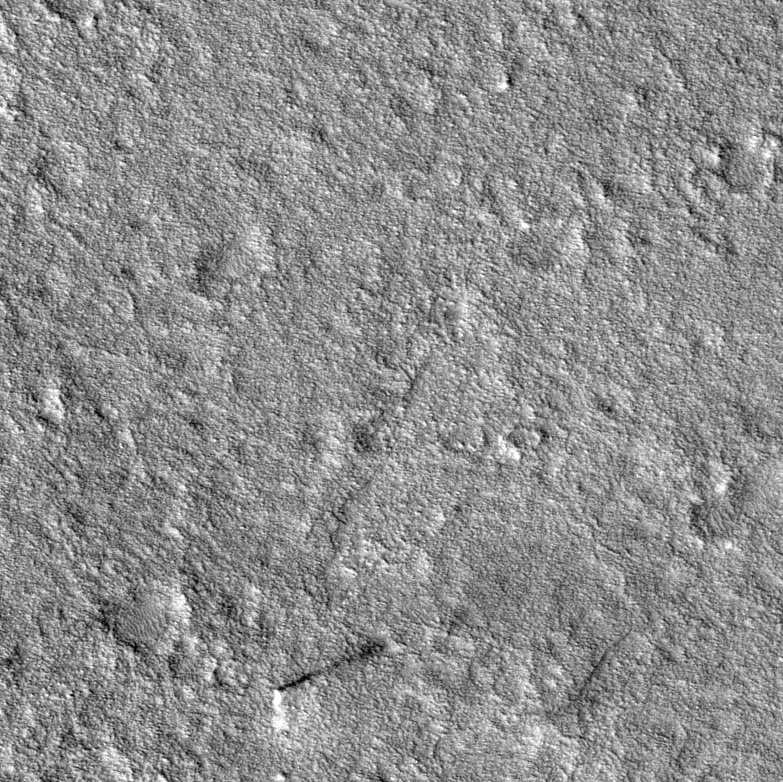dust_devil: (268, 636, 392, 735)
